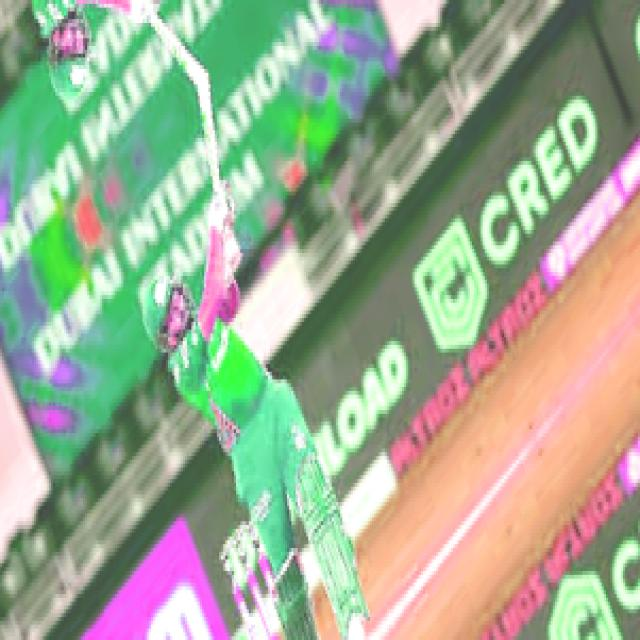toe: (195, 73, 215, 106)
